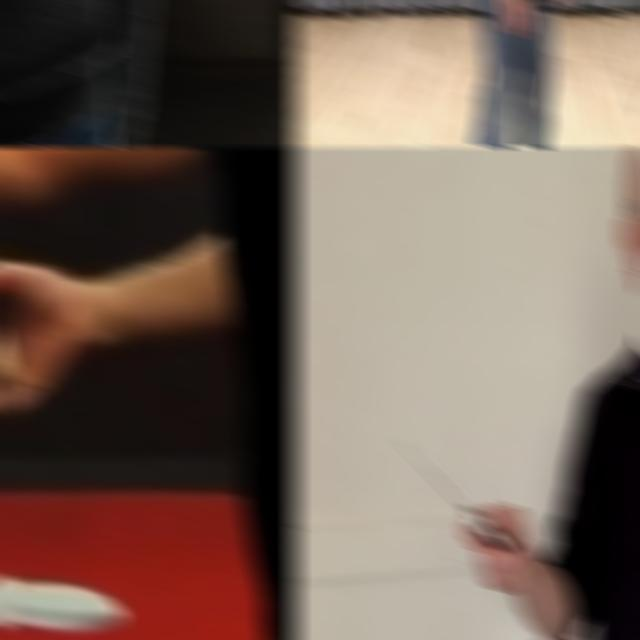Knife: (0, 571, 126, 631)
Knife_Handle: (395, 432, 528, 594), (0, 512, 126, 640), (497, 0, 558, 38)
